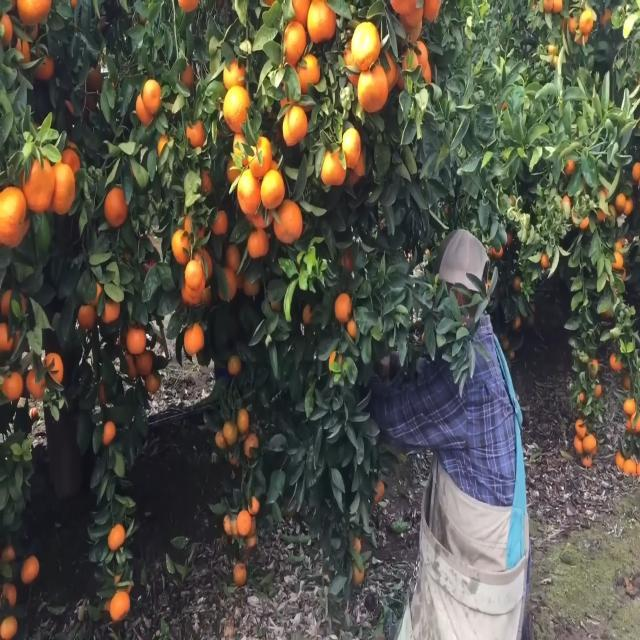Jeruk Sudah Matang: (23, 150, 53, 216), (356, 61, 390, 118), (1, 182, 27, 254), (51, 159, 78, 222), (348, 21, 380, 67), (304, 0, 338, 43), (274, 195, 303, 245), (220, 84, 250, 132), (318, 142, 348, 187), (235, 168, 263, 216), (41, 347, 70, 387), (104, 182, 127, 230), (294, 54, 320, 96), (258, 171, 286, 209), (216, 261, 238, 307), (283, 104, 308, 144), (282, 18, 305, 60), (24, 362, 49, 399), (108, 589, 132, 624), (142, 76, 164, 114), (170, 226, 192, 264), (18, 554, 44, 586), (4, 363, 22, 408), (184, 119, 207, 154), (343, 127, 361, 171), (97, 294, 121, 326), (246, 226, 269, 258), (185, 321, 205, 357), (183, 258, 203, 292), (411, 38, 430, 72), (106, 524, 128, 552), (333, 291, 352, 323), (180, 58, 196, 96), (210, 207, 230, 236), (234, 506, 252, 538), (126, 326, 146, 354), (224, 244, 244, 272), (578, 7, 596, 38), (0, 318, 15, 352), (102, 418, 120, 446), (195, 168, 214, 194), (79, 300, 96, 328), (236, 404, 250, 436), (142, 374, 162, 396), (222, 418, 238, 444), (244, 272, 260, 298), (228, 352, 242, 380), (609, 350, 623, 376), (610, 249, 626, 271), (614, 188, 626, 216), (622, 396, 636, 416), (629, 157, 640, 182), (348, 316, 358, 342), (540, 250, 550, 272), (575, 418, 585, 436)
